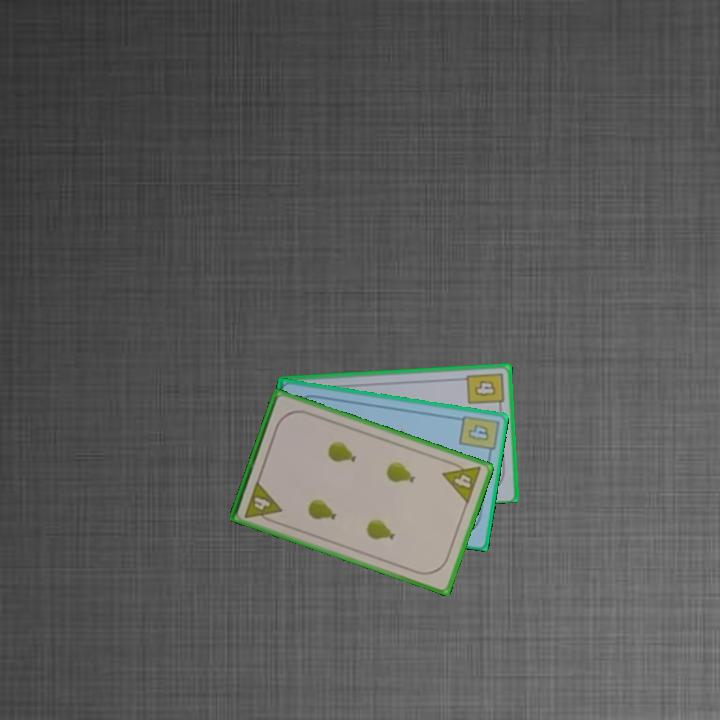4b: (456, 411, 500, 460), (463, 369, 506, 412)
4p: (439, 456, 484, 507), (241, 477, 284, 526)
